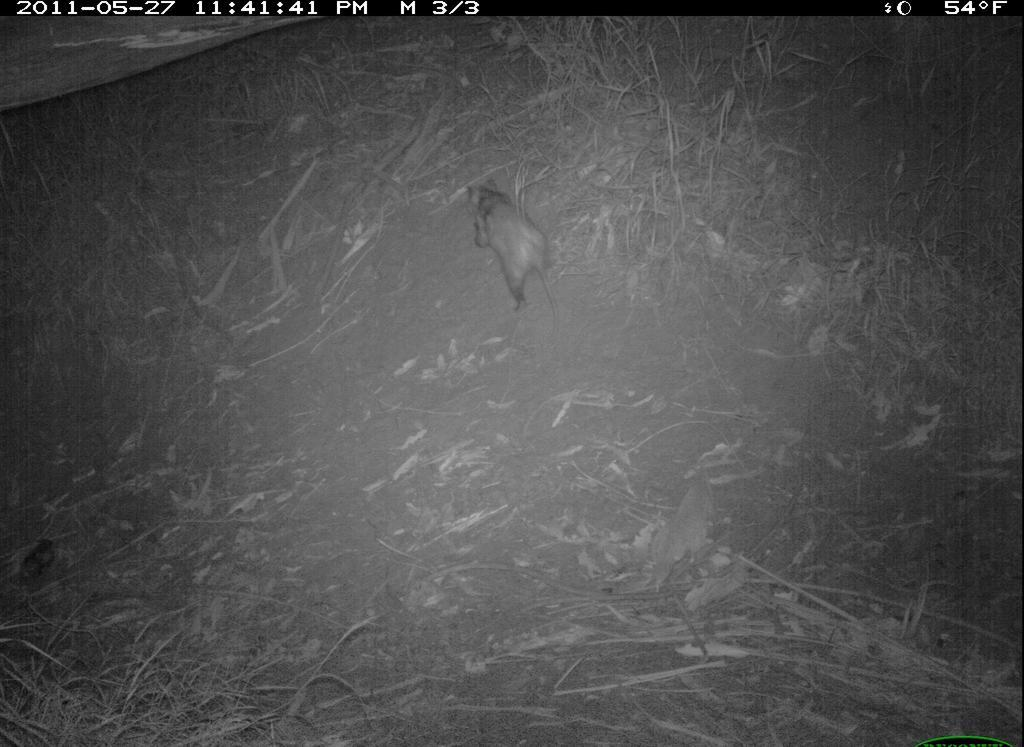opossum: (446, 168, 577, 333)
